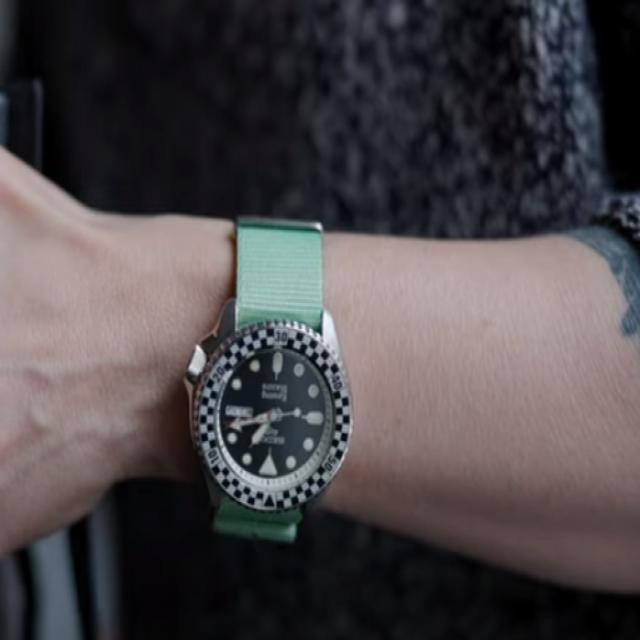Watch: (184, 203, 353, 550)
